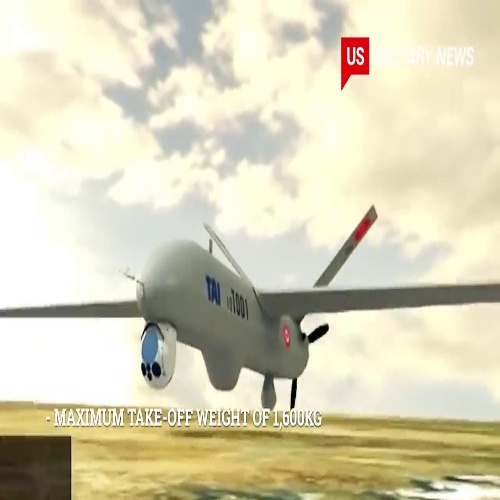uav: (1, 204, 500, 411)
